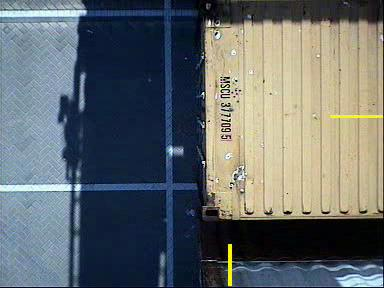groundmarker_2: (124, 54, 197, 93)
